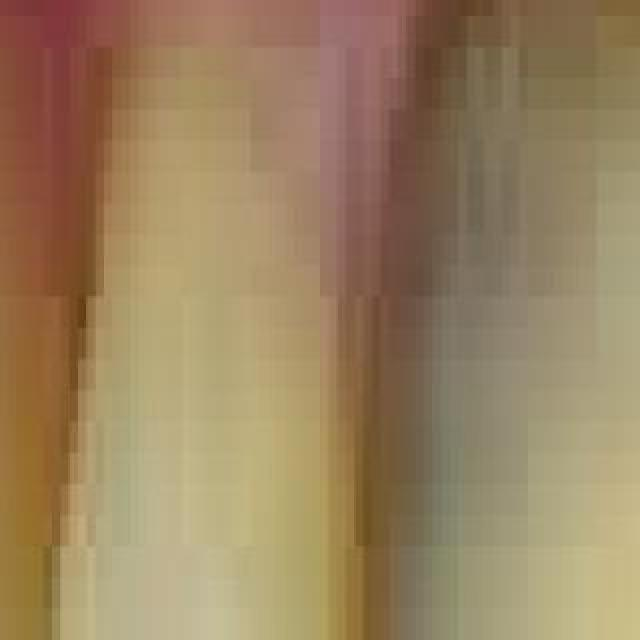cavities: (354, 0, 640, 444)
